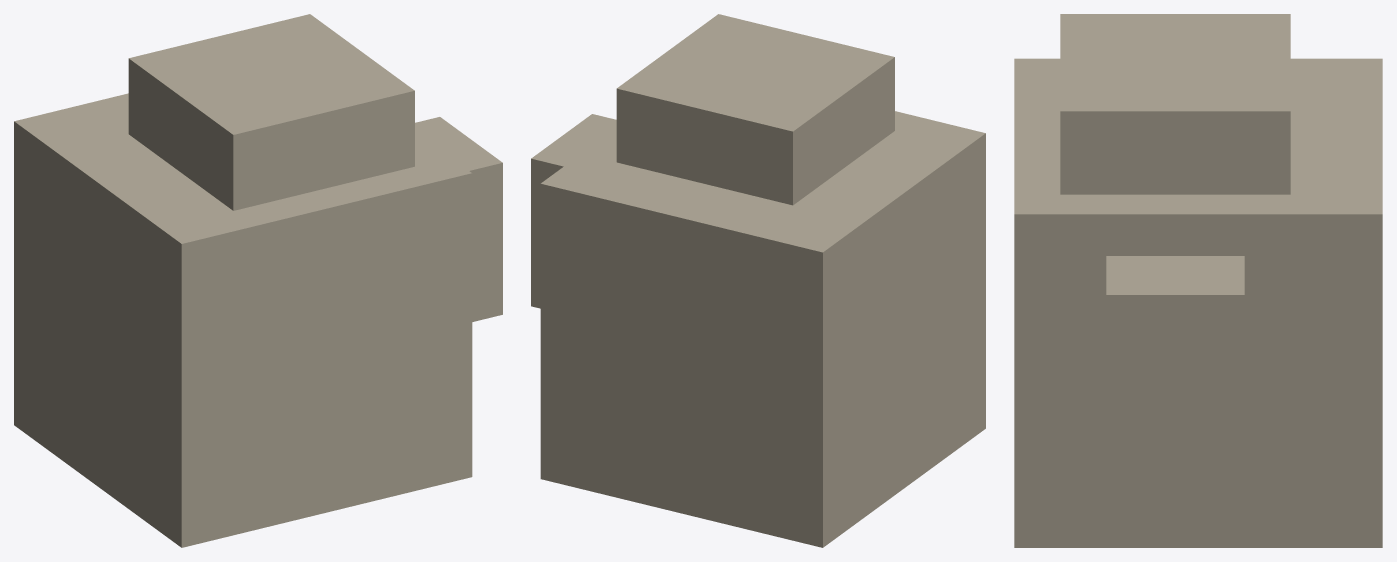
The model's file is jarra_agua_01.glb.
3 views of the same model, side by side, from view 1: azimuth 30°, elevation 25°; view 2: azimuth 150°, elevation 25°; view 3: azimuth 270°, elevation 25° (orthographic). The views are drawn at different scales.
Parts seen in each view (by area): view 1: jarra_agua; view 2: jarra_agua; view 3: jarra_agua.
Boxes of the visible parts, bbox=[...] form: jarra_agua: bbox=[14, 14, 502, 547]; jarra_agua: bbox=[531, 14, 985, 547]; jarra_agua: bbox=[1014, 14, 1382, 547].
Size of the model in its own units: 0.7143 by 0.7143 by 0.5714.
